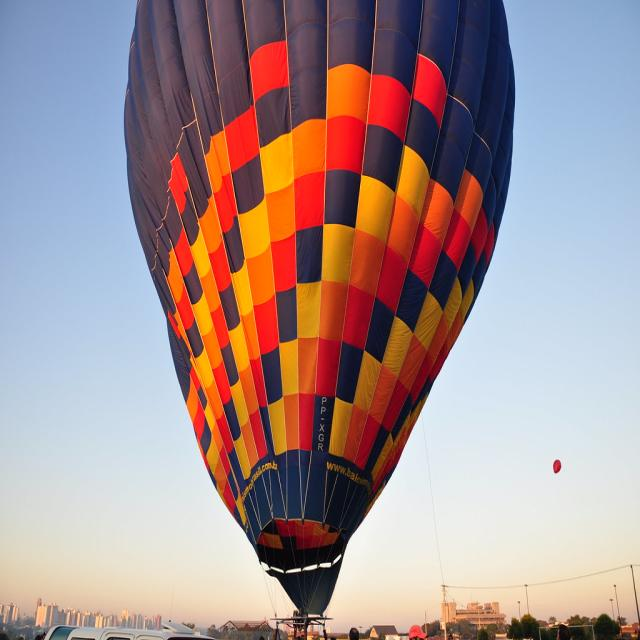balloon: (123, 1, 516, 633)
